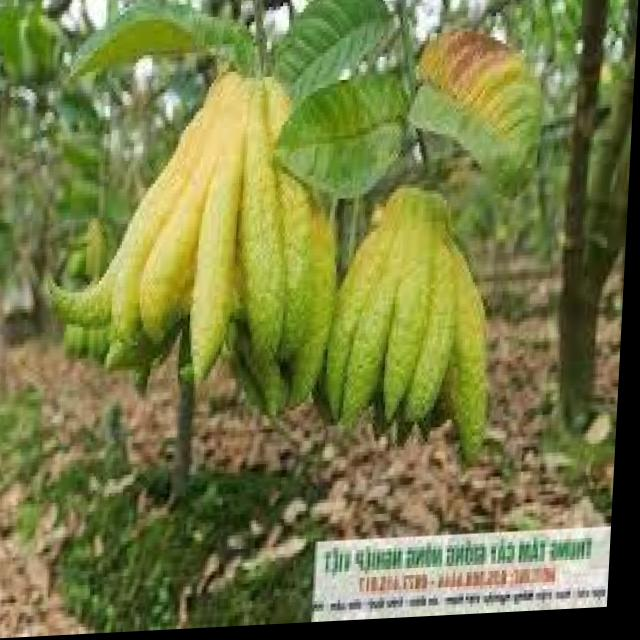PhatThu: (35, 63, 345, 441), (319, 184, 512, 485)
